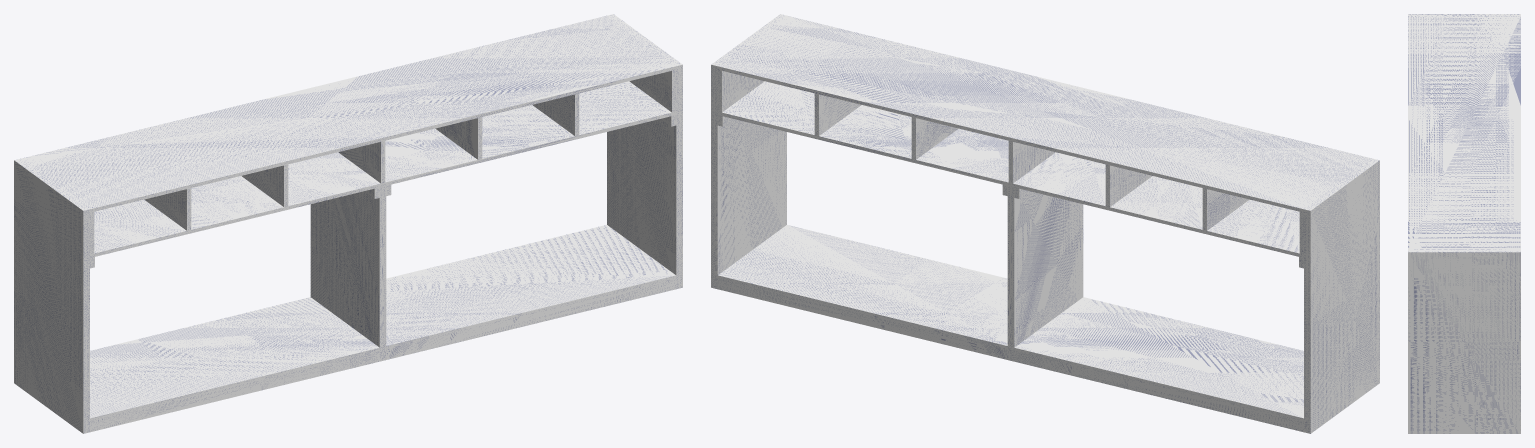
File: back_workbench.dae
3 views of the same model, side by side, from view 1: azimuth 30°, elevation 25°; view 2: azimuth 150°, elevation 25°; view 3: azimuth 270°, elevation 25° (orthographic). The views are drawn at different scales.
Parts seen in each view (by area): view 1: group_3, group_4, group_10, group_2, group_12, group_1, group_6, group_13, group_5, SketchUp; view 2: group_3, group_4, group_10, group_12, group_2, group_1, group_6, group_11, group_14; view 3: group_3, group_1, group_2.
Boxes of the visible parts, x1,y1,x2,y2 form: group_3: (21, 15, 676, 212); group_4: (90, 70, 676, 257); group_10: (386, 225, 676, 349); group_2: (14, 158, 89, 433); group_12: (90, 297, 379, 418); group_1: (607, 14, 682, 289); group_6: (310, 186, 386, 361); group_13: (386, 279, 676, 359); group_5: (90, 351, 379, 432); SketchUp: (90, 348, 379, 421); group_3: (717, 15, 1372, 212); group_4: (717, 70, 1303, 257); group_10: (717, 225, 1007, 349); group_12: (1014, 297, 1303, 421); group_2: (1304, 158, 1379, 433); group_1: (711, 14, 786, 289); group_6: (1007, 186, 1083, 361); group_11: (717, 279, 1007, 359); group_14: (1014, 351, 1303, 432); group_3: (1408, 16, 1520, 249); group_1: (1408, 249, 1520, 433); group_2: (1408, 14, 1520, 16).
Bounding box in the file's own units: 90 × 18 × 32.
